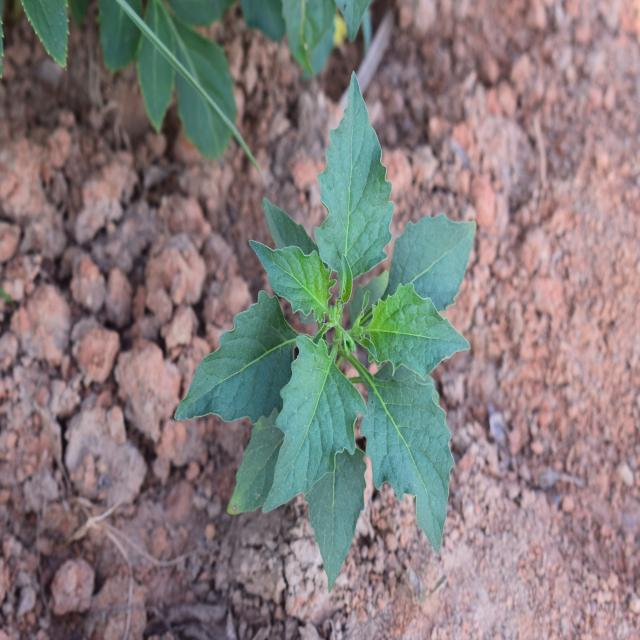Black_nightshade: (213, 113, 472, 553)
